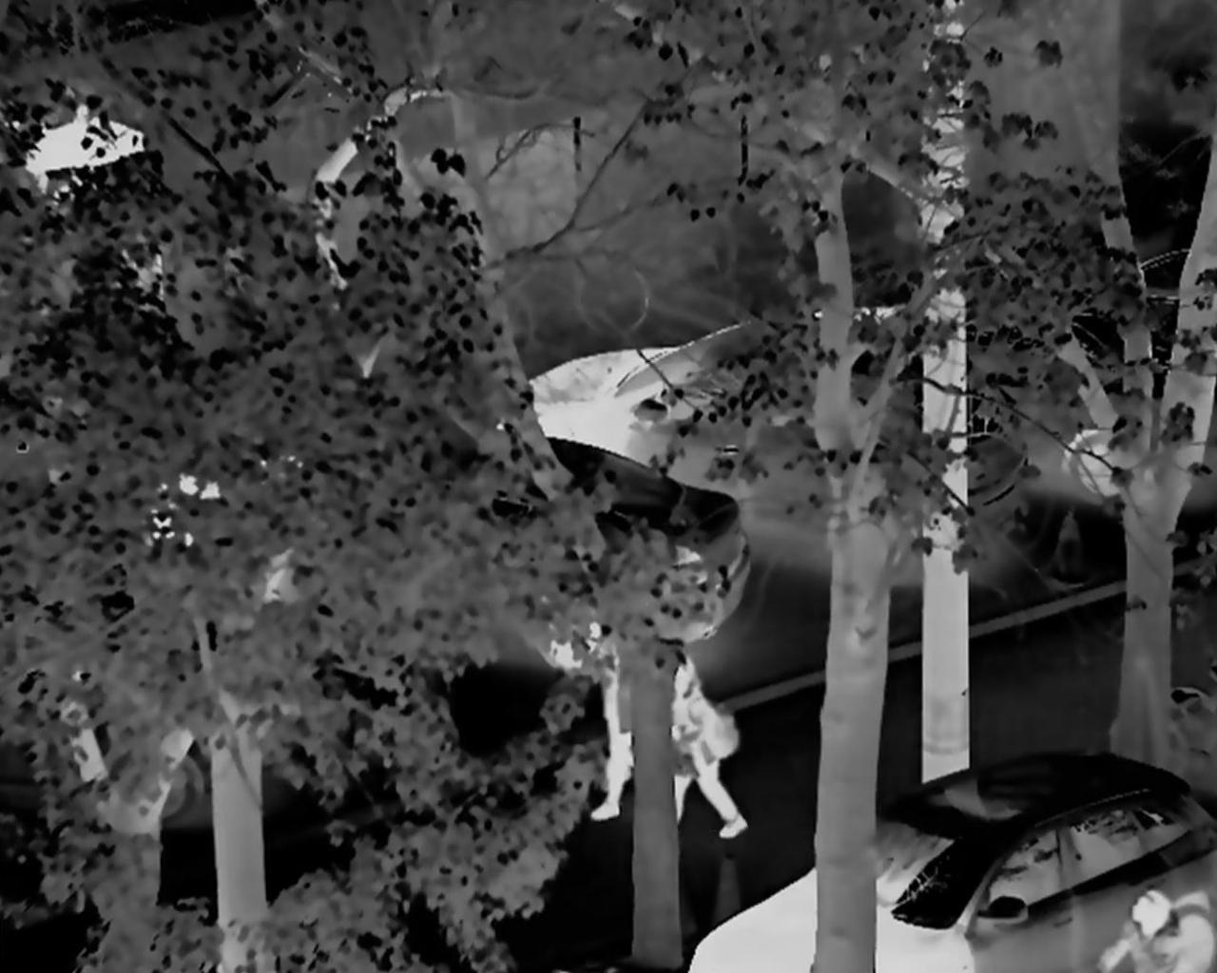person: (574, 637, 667, 827), (669, 656, 754, 857)
